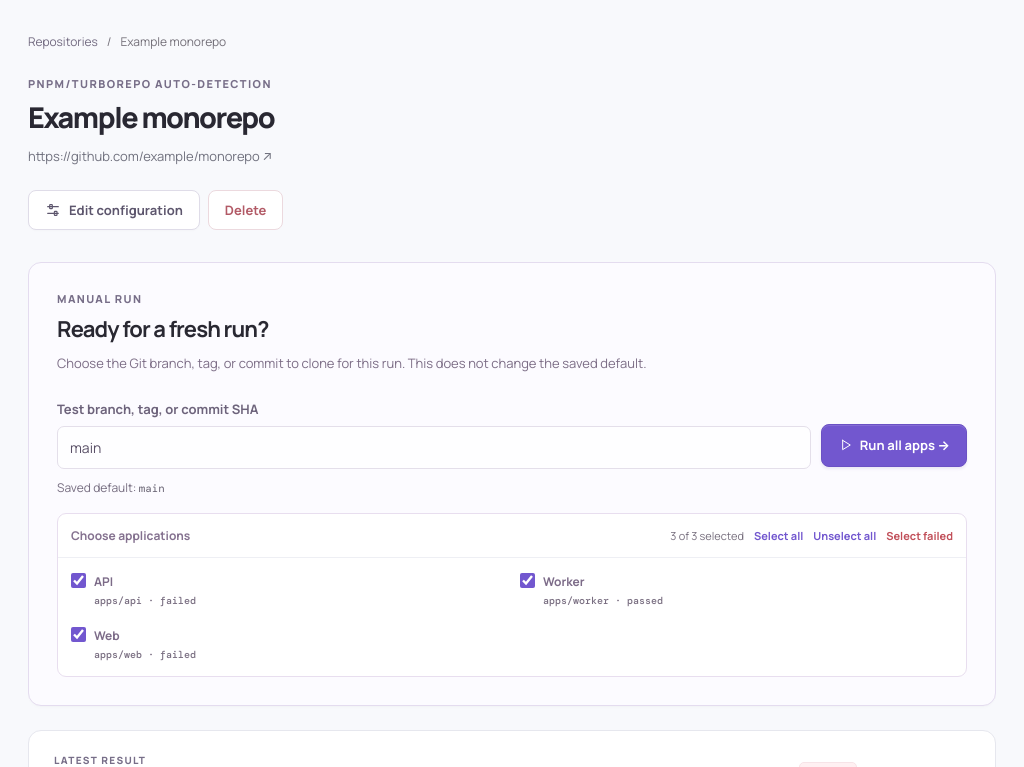
repository app selection › allows one app to be selected after clearing the picker
This screenshot has width=1024, height=767.
Check: the text "3 of 3 selected" is shown, box [670,528,744,543]
What coordinates should you click on to do the following:
click the button "Unselect all"
I would click on:
 (845, 536)
Its box is [813,525,876,546].
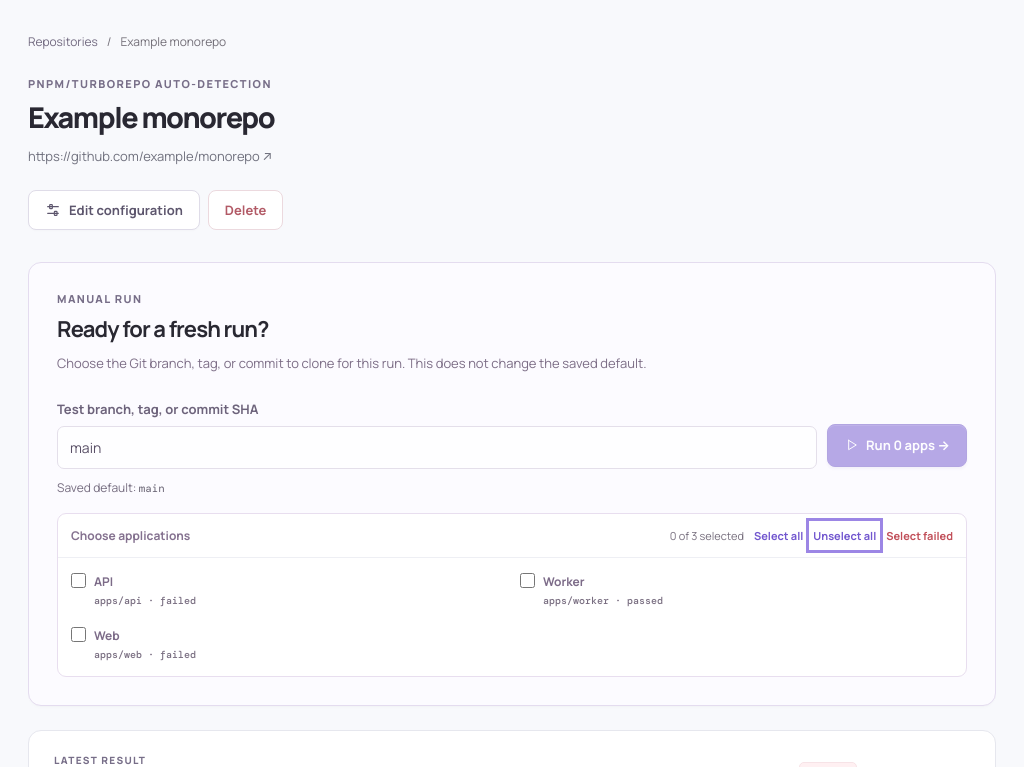
What coordinates should you click on to do the following:
click the checkbox labelled "Worker apps/worker · passed"
I would click on:
 (528, 581)
Its box is [520,573,535,588].
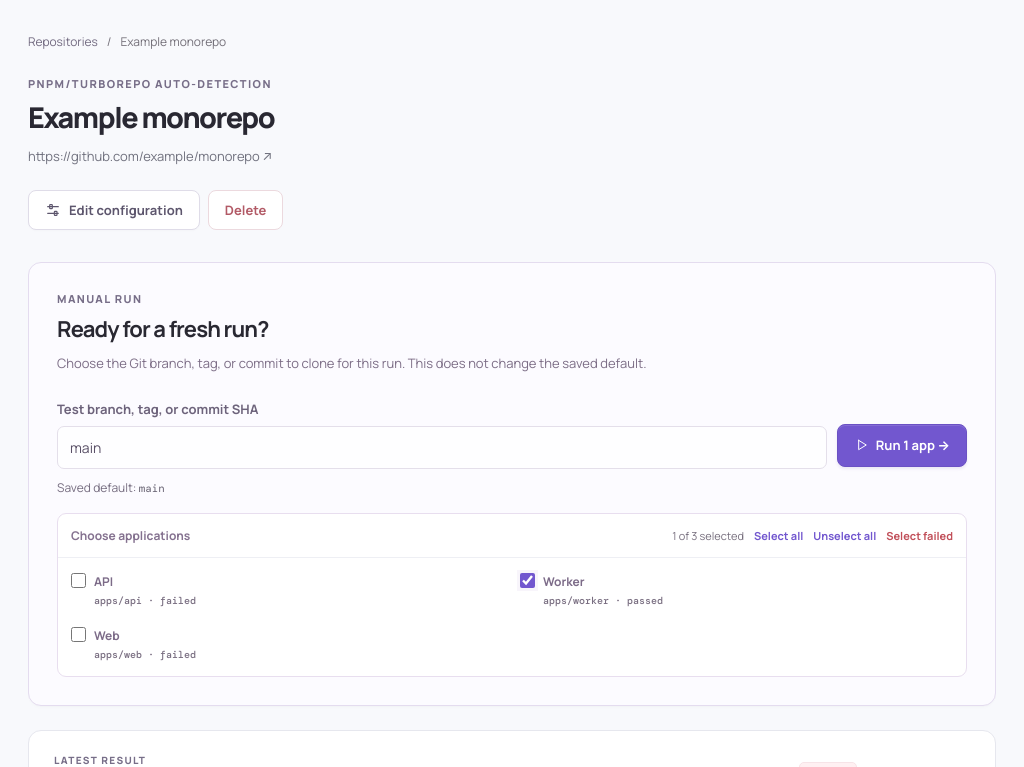
Check: the text "1 of 3 selected" is shown, box [672,528,744,543]
Check: the button "Run 1 app →" is enabled, box [837,424,967,467]
